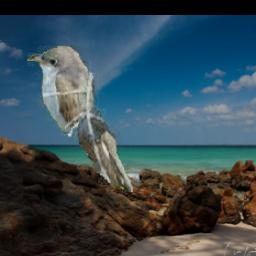Cuckoo: (27, 47, 133, 193)
